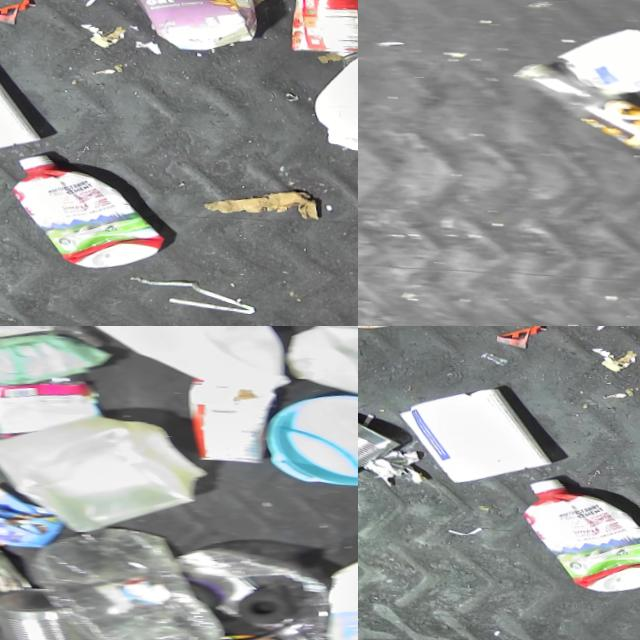can: (546, 23, 640, 99), (271, 0, 358, 61), (0, 585, 86, 640), (358, 411, 396, 484)
milk_jug: (0, 410, 207, 539), (29, 326, 293, 394), (271, 326, 358, 408), (294, 50, 358, 161), (306, 530, 358, 640)
non_white_jug: (506, 477, 640, 596)
plastic_bottle: (11, 523, 223, 640), (500, 60, 640, 153)
